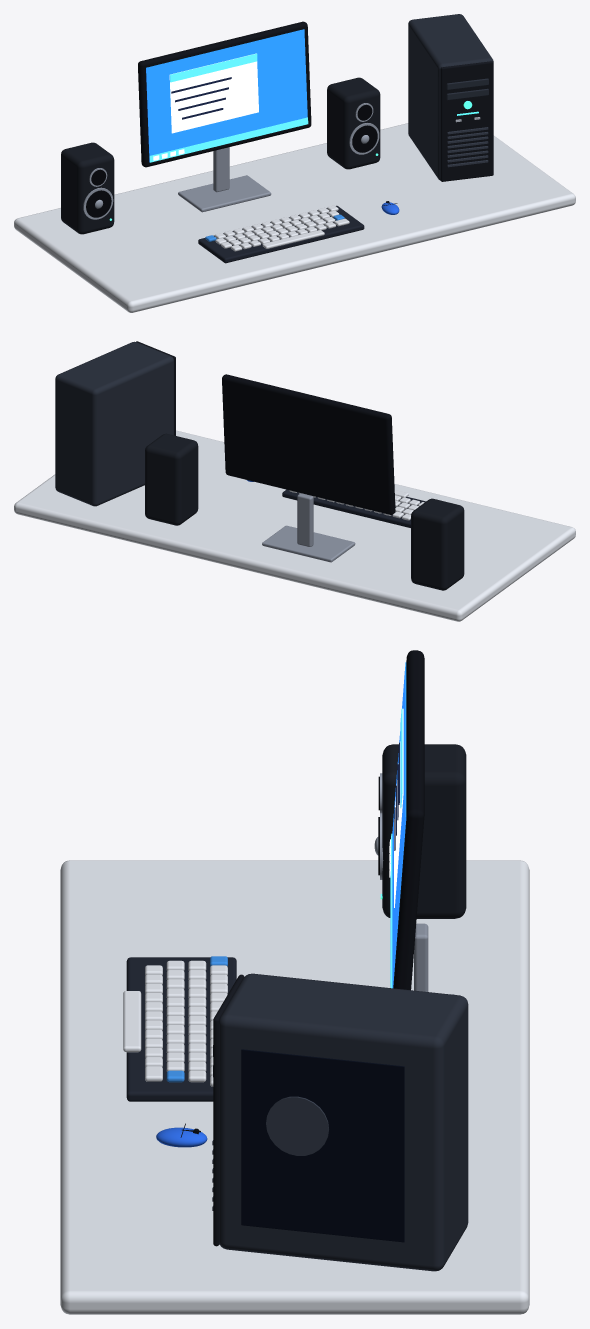
Rendered from sistem-komputer.glb.
3 views of the same model, one above another, from view 1: azimuth 30°, elevation 25°; view 2: azimuth 150°, elevation 25°; view 3: azimuth 270°, elevation 25° (orthographic). The views are drawn at different scales.
Visible parts, largest first — view 1: model; view 2: model; view 3: model.
Part boxes in pixels (x1,y1,x2,y2): model: [14, 14, 575, 312]; model: [14, 341, 575, 621]; model: [60, 650, 529, 1314].
Size of the model in its own units: 3.2 by 1.12 by 1.45.
